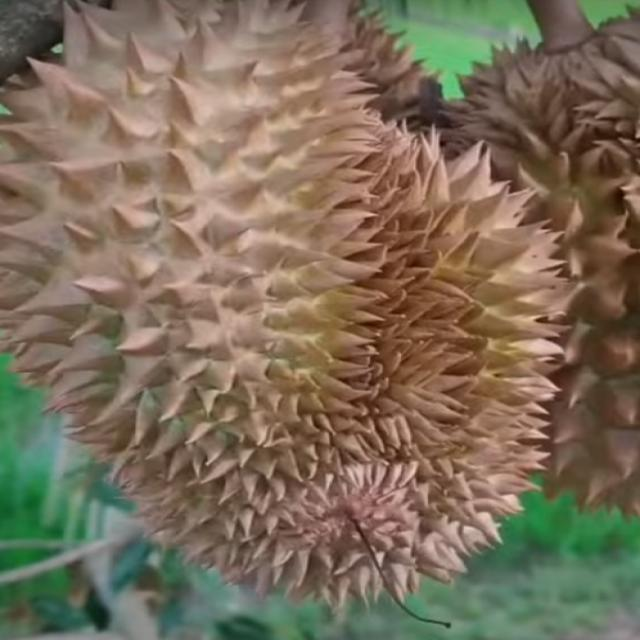mature: (0, 0, 574, 608)
